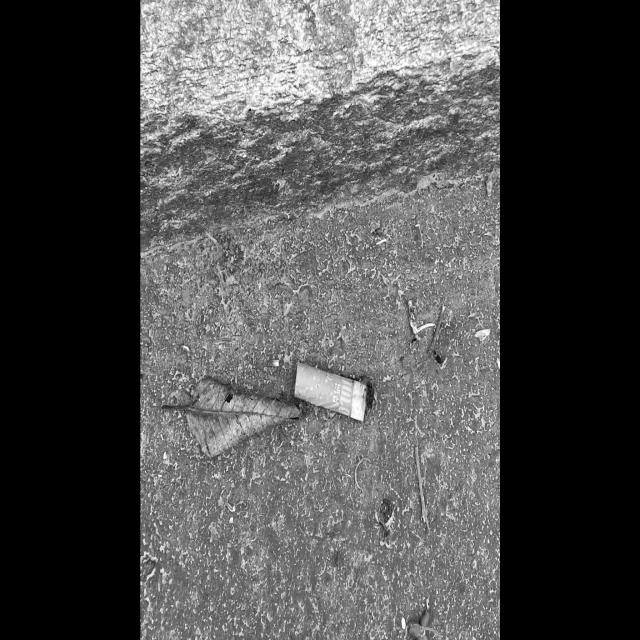other waste: (292, 359, 368, 423)
